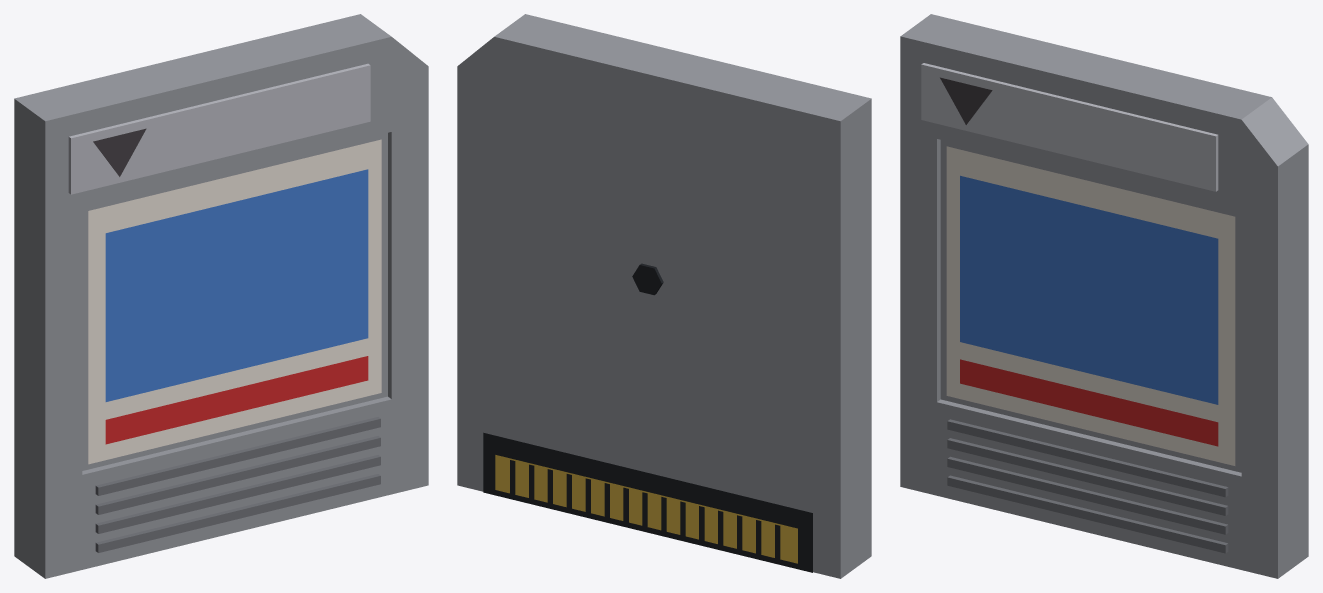
3 renders of one model, left to right at view 1: azimuth 30°, elevation 25°; view 2: azimuth 150°, elevation 25°; view 3: azimuth 330°, elevation 25°, orthographic.
Parts seen in each view (by area): view 1: gb; view 2: gb; view 3: gb.
Boxes of the visible parts, bbox=[...] form: gb: bbox=[14, 14, 428, 578]; gb: bbox=[457, 14, 871, 578]; gb: bbox=[900, 14, 1308, 578].
Bounding box in the file's own units: 5.7 × 6.5 × 1.
